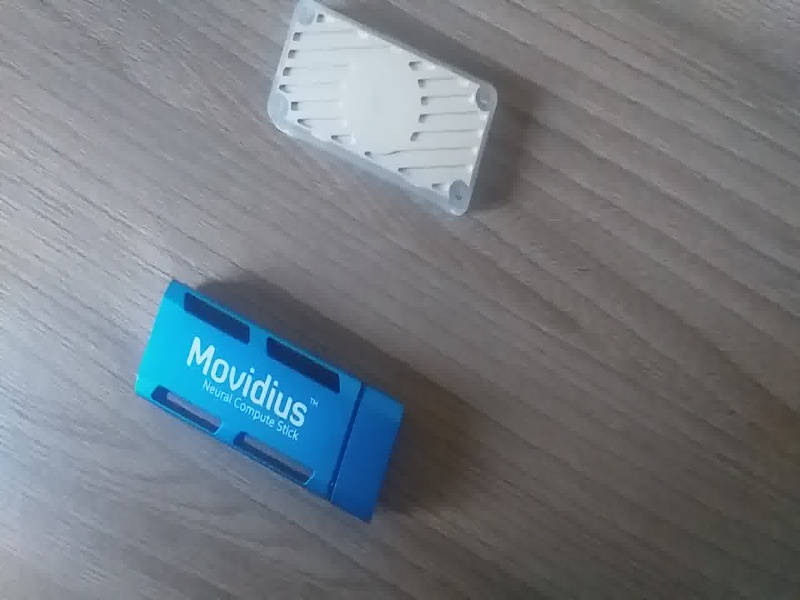coral: (253, 4, 510, 226)
movidius: (118, 273, 420, 524)
